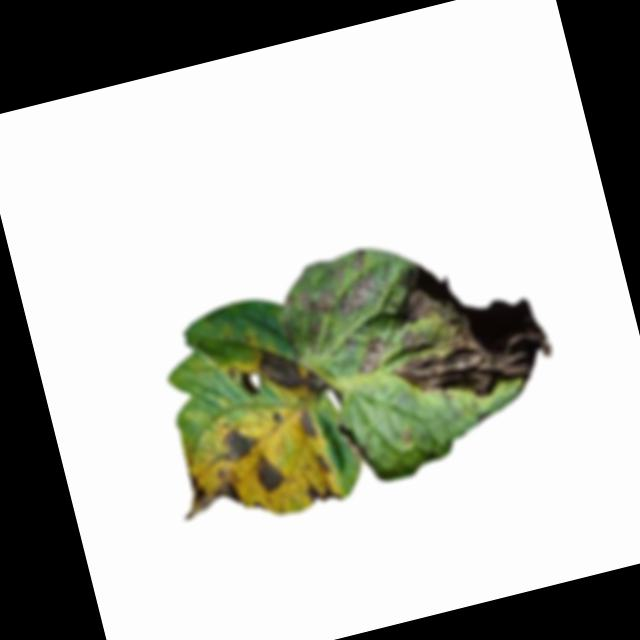Early_blight: (369, 237, 562, 416), (297, 248, 384, 324), (253, 336, 330, 410), (174, 462, 246, 524), (212, 423, 259, 468), (350, 335, 394, 380), (252, 452, 287, 497), (303, 479, 343, 509), (293, 408, 321, 445), (234, 370, 263, 403), (315, 453, 333, 479), (269, 409, 283, 424)
